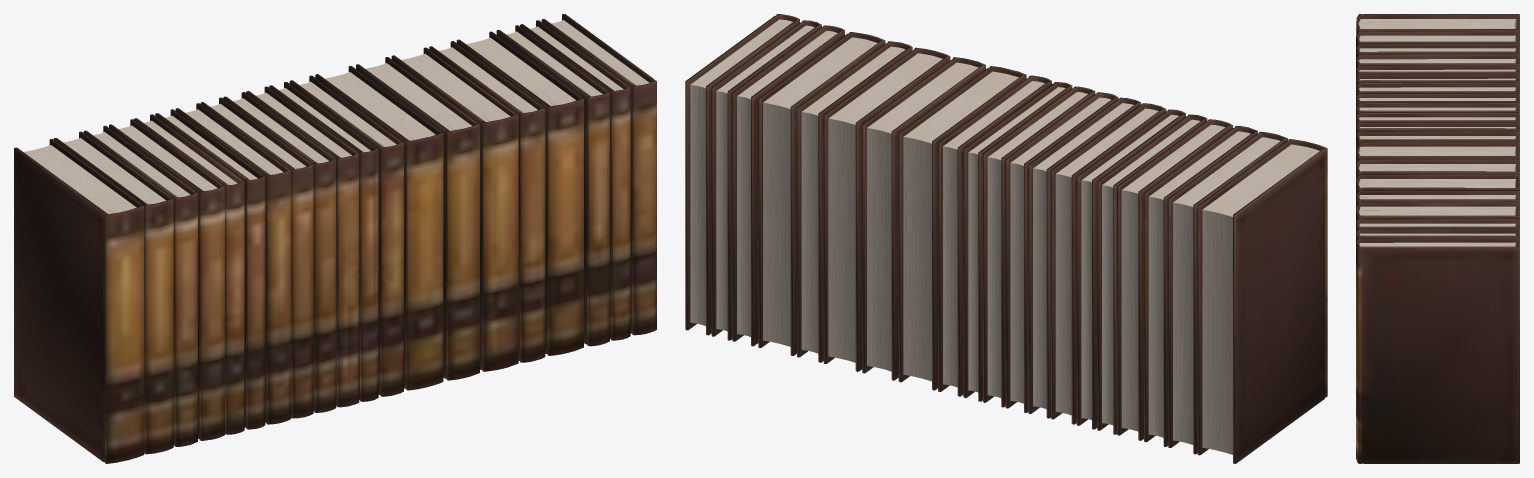
The model's file is book_encyclopedia_set_01.glb.
3 renders of one model, left to right at view 1: azimuth 30°, elevation 25°; view 2: azimuth 150°, elevation 25°; view 3: azimuth 270°, elevation 25°, orthographic. The views are drawn at different scales.
Parts seen in each view (by area): view 1: book_encyclopedia_set_01_book01, book_encyclopedia_set_01_book13, book_encyclopedia_set_01_book15, book_encyclopedia_set_01_book17, book_encyclopedia_set_01_book14, book_encyclopedia_set_01_book02, book_encyclopedia_set_01_book16, book_encyclopedia_set_01_book04, book_encyclopedia_set_01_book20, book_encyclopedia_set_01_book07, book_encyclopedia_set_01_book18, book_encyclopedia_set_01_book12 (+8 smaller); view 2: book_encyclopedia_set_01_book01, book_encyclopedia_set_01_book13, book_encyclopedia_set_01_book15, book_encyclopedia_set_01_book17, book_encyclopedia_set_01_book14, book_encyclopedia_set_01_book02, book_encyclopedia_set_01_book16, book_encyclopedia_set_01_book04, book_encyclopedia_set_01_book20, book_encyclopedia_set_01_book18, book_encyclopedia_set_01_book07, book_encyclopedia_set_01_book12 (+8 smaller); view 3: book_encyclopedia_set_01_book20, book_encyclopedia_set_01_book01, book_encyclopedia_set_01_book13, book_encyclopedia_set_01_book17, book_encyclopedia_set_01_book15, book_encyclopedia_set_01_book14, book_encyclopedia_set_01_book02, book_encyclopedia_set_01_book16, book_encyclopedia_set_01_book03, book_encyclopedia_set_01_book04, book_encyclopedia_set_01_book12, book_encyclopedia_set_01_book07 (+8 smaller).
Part boxes in pixels (x1,y1,x2,y2): book_encyclopedia_set_01_book01: (14, 139, 144, 463); book_encyclopedia_set_01_book13: (315, 66, 443, 390); book_encyclopedia_set_01_book15: (391, 47, 518, 371); book_encyclopedia_set_01_book17: (456, 31, 583, 355); book_encyclopedia_set_01_book14: (356, 57, 479, 380); book_encyclopedia_set_01_book02: (53, 131, 173, 454); book_encyclopedia_set_01_book16: (429, 41, 545, 362); book_encyclopedia_set_01_book04: (109, 119, 224, 440); book_encyclopedia_set_01_book20: (541, 14, 656, 335); book_encyclopedia_set_01_book07: (175, 103, 291, 424); book_encyclopedia_set_01_book18: (496, 25, 609, 346); book_encyclopedia_set_01_book12: (289, 75, 403, 396); book_encyclopedia_set_01_book01: (1197, 139, 1327, 463); book_encyclopedia_set_01_book13: (898, 66, 1026, 390); book_encyclopedia_set_01_book15: (823, 47, 950, 371); book_encyclopedia_set_01_book17: (758, 32, 885, 355); book_encyclopedia_set_01_book14: (862, 57, 985, 380); book_encyclopedia_set_01_book02: (1168, 131, 1287, 454); book_encyclopedia_set_01_book16: (797, 41, 912, 362); book_encyclopedia_set_01_book04: (1117, 119, 1232, 440); book_encyclopedia_set_01_book20: (685, 14, 799, 335); book_encyclopedia_set_01_book18: (732, 25, 844, 346); book_encyclopedia_set_01_book07: (1051, 103, 1166, 424); book_encyclopedia_set_01_book12: (938, 75, 1051, 396); book_encyclopedia_set_01_book20: (1356, 238, 1519, 463); book_encyclopedia_set_01_book01: (1356, 14, 1519, 35); book_encyclopedia_set_01_book13: (1356, 142, 1519, 162); book_encyclopedia_set_01_book17: (1356, 202, 1519, 222); book_encyclopedia_set_01_book15: (1356, 174, 1519, 209); book_encyclopedia_set_01_book14: (1356, 159, 1519, 179); book_encyclopedia_set_01_book02: (1356, 31, 1519, 47); book_encyclopedia_set_01_book16: (1356, 190, 1519, 206); book_encyclopedia_set_01_book03: (1356, 43, 1519, 59); book_encyclopedia_set_01_book04: (1356, 54, 1519, 106); book_encyclopedia_set_01_book12: (1356, 131, 1519, 176); book_encyclopedia_set_01_book07: (1356, 82, 1519, 95).
Size of the model in its own units: 0.5513 by 0.2374 by 0.1631.
Materials: 2 (2 with a texture image).
